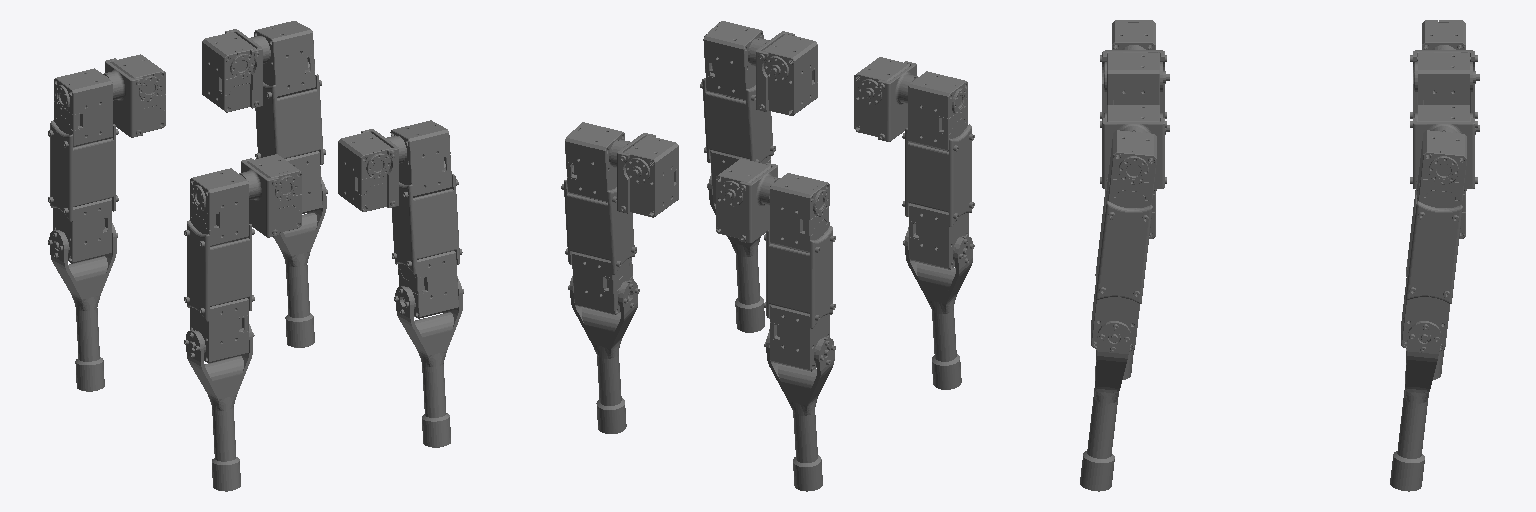
URDF robot description (spot_micro_urdf_v2):
<?xml version="1.0" encoding="utf-8"?>
<!-- This URDF was automatically created by SolidWorks to URDF Exporter! Originally created by [author] ([email redacted]) 
     Commit Version:   Build Version: 1.5.7381.17410
     For more information, please see http://wiki.ros.org/sw_urdf_exporter -->
<robot
  name="spot_micro_urdf_v2">
  <link
    name="base_link">
    <inertial>
      <origin
        xyz="-0.0004418 -0.00072045 0.016622"
        rpy="0 0 0" />
      <mass
        value="0.9248" />
      <inertia
        ixx="0.00063265"
        ixy="6.5439E-06"
        ixz="-5.2376E-06"
        iyy="0.0011738"
        iyz="-7.2183E-06"
        izz="0.00099241" />
    </inertial>
    <visual>
      <origin
        xyz="0 0 0"
        rpy="0 0 0" />
      <geometry>
        <mesh
          filename="package://spot_micro_urdf_v2/meshes/base_link.STL" />
      </geometry>
      <material
        name="">
        <color
          rgba="0.34118 0.80392 1 1" />
      </material>
    </visual>
    <collision>
      <origin
        xyz="0 0 0"
        rpy="0 0 0" />
      <geometry>
        <mesh
          filename="package://spot_micro_urdf_v2/meshes/base_link.STL" />
      </geometry>
    </collision>
  </link>
  <link
    name="front_left_shoulder_link">
    <inertial>
      <origin
        xyz="-0.023049 -0.011251 0.0030217"
        rpy="0 0 0" />
      <mass
        value="0.10229" />
      <inertia
        ixx="2.3388E-05"
        ixy="-3.7973E-08"
        ixz="-4.5621E-13"
        iyy="1.6266E-05"
        iyz="-3.6502E-07"
        izz="2.8445E-05" />
    </inertial>
    <visual>
      <origin
        xyz="0 0 0"
        rpy="0 0 0" />
      <geometry>
        <mesh
          filename="package://spot_micro_urdf_v2/meshes/front_left_shoulder_link.STL" />
      </geometry>
      <material
        name="">
        <color
          rgba="0.50196 0.50196 0.50196 1" />
      </material>
    </visual>
    <collision>
      <origin
        xyz="0 0 0"
        rpy="0 0 0" />
      <geometry>
        <mesh
          filename="package://spot_micro_urdf_v2/meshes/front_left_shoulder_link.STL" />
      </geometry>
    </collision>
  </link>
  <joint
    name="front_left_shoulder_joint"
    type="revolute">
    <origin
      xyz="0.039001 -0.0766 0.010875"
      rpy="1.5708 0 1.5708" />
    <parent
      link="base_link" />
    <child
      link="front_left_shoulder_link" />
    <axis
      xyz="1 0 0" />
    <limit
      lower="0"
      upper="3.14"
      effort="3"
      velocity="8" />
  </joint>
  <link
    name="front_left_thigh_link">
    <inertial>
      <origin
        xyz="-0.0061957 -0.058673 0.023449"
        rpy="0 0 0" />
      <mass
        value="0.20833" />
      <inertia
        ixx="6.5328E-05"
        ixy="-2.5965E-06"
        ixz="7.6159E-09"
        iyy="4.1013E-05"
        iyz="7.2121E-08"
        izz="5.5965E-05" />
    </inertial>
    <visual>
      <origin
        xyz="0 0 0"
        rpy="0 0 0" />
      <geometry>
        <mesh
          filename="package://spot_micro_urdf_v2/meshes/front_left_thigh_link.STL" />
      </geometry>
      <material
        name="">
        <color
          rgba="0.50196 0.50196 0.50196 1" />
      </material>
    </visual>
    <collision>
      <origin
        xyz="0 0 0"
        rpy="0 0 0" />
      <geometry>
        <mesh
          filename="package://spot_micro_urdf_v2/meshes/front_left_thigh_link.STL" />
      </geometry>
    </collision>
  </link>
  <joint
    name="front_left_thigh_joint"
    type="revolute">
    <origin
      xyz="-0.0234 0 0.0226"
      rpy="0 0 0" />
    <parent
      link="front_left_shoulder_link" />
    <child
      link="front_left_thigh_link" />
    <axis
      xyz="0 0 1" />
    <limit
      lower="0"
      upper="3.14"
      effort="3"
      velocity="8" />
  </joint>
  <link
    name="front_left_calf_link">
    <inertial>
      <origin
        xyz="-0.0059573 -0.056415 0.023401"
        rpy="0 0 0" />
      <mass
        value="0.039633" />
      <inertia
        ixx="3.7201E-05"
        ixy="-3.5058E-06"
        ixz="-3.4162E-10"
        iyy="4.3723E-06"
        iyz="-3.0852E-09"
        izz="3.5395E-05" />
    </inertial>
    <visual>
      <origin
        xyz="0 0 0"
        rpy="0 0 0" />
      <geometry>
        <mesh
          filename="package://spot_micro_urdf_v2/meshes/front_left_calf_link.STL" />
      </geometry>
      <material
        name="">
        <color
          rgba="0.50196 0.50196 0.50196 1" />
      </material>
    </visual>
    <collision>
      <origin
        xyz="0 0 0"
        rpy="0 0 0" />
      <geometry>
        <mesh
          filename="package://spot_micro_urdf_v2/meshes/front_left_calf_link.STL" />
      </geometry>
    </collision>
  </link>
  <joint
    name="front_left_calf_joint"
    type="revolute">
    <origin
      xyz="-0.012392 -0.11735 0"
      rpy="0 0 0" />
    <parent
      link="front_left_thigh_link" />
    <child
      link="front_left_calf_link" />
    <axis
      xyz="0 0 1" />
    <limit
      lower="0"
      upper="3.14"
      effort="3"
      velocity="8" />
  </joint>
  <link
    name="rear_left_shoulder_link">
    <inertial>
      <origin
        xyz="0.022101 -0.011251 0.0030217"
        rpy="0 0 0" />
      <mass
        value="0.10229" />
      <inertia
        ixx="2.3388E-05"
        ixy="-3.7973E-08"
        ixz="-4.5621E-13"
        iyy="1.6266E-05"
        iyz="-3.6502E-07"
        izz="2.8445E-05" />
    </inertial>
    <visual>
      <origin
        xyz="0 0 0"
        rpy="0 0 0" />
      <geometry>
        <mesh
          filename="package://spot_micro_urdf_v2/meshes/rear_left_shoulder_link.STL" />
      </geometry>
      <material
        name="">
        <color
          rgba="0.50196 0.50196 0.50196 1" />
      </material>
    </visual>
    <collision>
      <origin
        xyz="0 0 0"
        rpy="0 0 0" />
      <geometry>
        <mesh
          filename="package://spot_micro_urdf_v2/meshes/rear_left_shoulder_link.STL" />
      </geometry>
    </collision>
  </link>
  <joint
    name="rear_left_shoulder_joint"
    type="revolute">
    <origin
      xyz="0.039001 0.07825 0.010875"
      rpy="1.5708 0 1.5708" />
    <parent
      link="base_link" />
    <child
      link="rear_left_shoulder_link" />
    <axis
      xyz="1 0 0" />
    <limit
      lower="0"
      upper="3.14"
      effort="3"
      velocity="8" />
  </joint>
  <link
    name="rear_left_thigh_link">
    <inertial>
      <origin
        xyz="-0.0061957 -0.058673 0.023449"
        rpy="0 0 0" />
      <mass
        value="0.20833" />
      <inertia
        ixx="6.5328E-05"
        ixy="-2.5965E-06"
        ixz="7.6159E-09"
        iyy="4.1013E-05"
        iyz="7.2121E-08"
        izz="5.5965E-05" />
    </inertial>
    <visual>
      <origin
        xyz="0 0 0"
        rpy="0 0 0" />
      <geometry>
        <mesh
          filename="package://spot_micro_urdf_v2/meshes/rear_left_thigh_link.STL" />
      </geometry>
      <material
        name="">
        <color
          rgba="0.50196 0.50196 0.50196 1" />
      </material>
    </visual>
    <collision>
      <origin
        xyz="0 0 0"
        rpy="0 0 0" />
      <geometry>
        <mesh
          filename="package://spot_micro_urdf_v2/meshes/rear_left_thigh_link.STL" />
      </geometry>
    </collision>
  </link>
  <joint
    name="rear_left_thigh_joint"
    type="revolute">
    <origin
      xyz="0.02175 0 0.0226"
      rpy="0 0 0" />
    <parent
      link="rear_left_shoulder_link" />
    <child
      link="rear_left_thigh_link" />
    <axis
      xyz="0 0 1" />
    <limit
      lower="0"
      upper="3.14"
      effort="3"
      velocity="8" />
  </joint>
  <link
    name="rear_left_calf_link">
    <inertial>
      <origin
        xyz="-0.0059573 -0.056415 0.023401"
        rpy="0 0 0" />
      <mass
        value="0.039633" />
      <inertia
        ixx="3.7201E-05"
        ixy="-3.5058E-06"
        ixz="-3.4162E-10"
        iyy="4.3723E-06"
        iyz="-3.0852E-09"
        izz="3.5395E-05" />
    </inertial>
    <visual>
      <origin
        xyz="0 0 0"
        rpy="0 0 0" />
      <geometry>
        <mesh
          filename="package://spot_micro_urdf_v2/meshes/rear_left_calf_link.STL" />
      </geometry>
      <material
        name="">
        <color
          rgba="0.50196 0.50196 0.50196 1" />
      </material>
    </visual>
    <collision>
      <origin
        xyz="0 0 0"
        rpy="0 0 0" />
      <geometry>
        <mesh
          filename="package://spot_micro_urdf_v2/meshes/rear_left_calf_link.STL" />
      </geometry>
    </collision>
  </link>
  <joint
    name="rear_left_calf_joint"
    type="revolute">
    <origin
      xyz="-0.012392 -0.11735 0"
      rpy="0 0 0" />
    <parent
      link="rear_left_thigh_link" />
    <child
      link="rear_left_calf_link" />
    <axis
      xyz="0 0 1" />
    <limit
      lower="0"
      upper="3.14"
      effort="3"
      velocity="8" />
  </joint>
  <link
    name="rear_right_shoulder_link">
    <inertial>
      <origin
        xyz="-0.022101 0.011263 -0.0029782"
        rpy="0 0 0" />
      <mass
        value="0.10229" />
      <inertia
        ixx="2.3388E-05"
        ixy="-3.7964E-08"
        ixz="-1.4601E-10"
        iyy="1.6269E-05"
        iyz="-4.12E-07"
        izz="2.8442E-05" />
    </inertial>
    <visual>
      <origin
        xyz="0 0 0"
        rpy="0 0 0" />
      <geometry>
        <mesh
          filename="package://spot_micro_urdf_v2/meshes/rear_right_shoulder_link.STL" />
      </geometry>
      <material
        name="">
        <color
          rgba="0.50196 0.50196 0.50196 1" />
      </material>
    </visual>
    <collision>
      <origin
        xyz="0 0 0"
        rpy="0 0 0" />
      <geometry>
        <mesh
          filename="package://spot_micro_urdf_v2/meshes/rear_right_shoulder_link.STL" />
      </geometry>
    </collision>
  </link>
  <joint
    name="rear_right_shoulder_joint"
    type="revolute">
    <origin
      xyz="-0.03901 0.07825 0.010875"
      rpy="-1.5747 0 -1.5708" />
    <parent
      link="base_link" />
    <child
      link="rear_right_shoulder_link" />
    <axis
      xyz="1 0 0" />
    <limit
      lower="0"
      upper="3.14"
      effort="3"
      velocity="8" />
  </joint>
  <link
    name="rear_right_thigh_link">
    <inertial>
      <origin
        xyz="7.3479E-10 -0.05909 0.023473"
        rpy="0 0 0" />
      <mass
        value="0.20833" />
      <inertia
        ixx="6.5602E-05"
        ixy="2.8634E-13"
        ixz="-2.0237E-14"
        iyy="4.0739E-05"
        iyz="1.3777E-08"
        izz="5.5965E-05" />
    </inertial>
    <visual>
      <origin
        xyz="0 0 0"
        rpy="0 0 0" />
      <geometry>
        <mesh
          filename="package://spot_micro_urdf_v2/meshes/rear_right_thigh_link.STL" />
      </geometry>
      <material
        name="">
        <color
          rgba="0.50196 0.50196 0.50196 1" />
      </material>
    </visual>
    <collision>
      <origin
        xyz="0 0 0"
        rpy="0 0 0" />
      <geometry>
        <mesh
          filename="package://spot_micro_urdf_v2/meshes/rear_right_thigh_link.STL" />
      </geometry>
    </collision>
  </link>
  <joint
    name="rear_right_thigh_joint"
    type="revolute">
    <origin
      xyz="-0.02175 8.6996E-05 -0.022548"
      rpy="-3.1416 0 0" />
    <parent
      link="rear_right_shoulder_link" />
    <child
      link="rear_right_thigh_link" />
    <axis
      xyz="0 0 -1" />
    <limit
      lower="0"
      upper="3.14"
      effort="3"
      velocity="8" />
  </joint>
  <link
    name="rear_right_calf_link">
    <inertial>
      <origin
        xyz="-0.0059573 -0.056415 -0.02395"
        rpy="0 0 0" />
      <mass
        value="0.039633" />
      <inertia
        ixx="3.7201E-05"
        ixy="-3.5058E-06"
        ixz="-3.4162E-10"
        iyy="4.3723E-06"
        iyz="-3.0852E-09"
        izz="3.5395E-05" />
    </inertial>
    <visual>
      <origin
        xyz="0 0 0"
        rpy="0 0 0" />
      <geometry>
        <mesh
          filename="package://spot_micro_urdf_v2/meshes/rear_right_calf_link.STL" />
      </geometry>
      <material
        name="">
        <color
          rgba="0.50196 0.50196 0.50196 1" />
      </material>
    </visual>
    <collision>
      <origin
        xyz="0 0 0"
        rpy="0 0 0" />
      <geometry>
        <mesh
          filename="package://spot_micro_urdf_v2/meshes/rear_right_calf_link.STL" />
      </geometry>
    </collision>
  </link>
  <joint
    name="rear_right_calf_joint"
    type="revolute">
    <origin
      xyz="0 -0.118 -0.00045526"
      rpy="3.14 0 3.14" />
    <parent
      link="rear_right_thigh_link" />
    <child
      link="rear_right_calf_link" />
    <axis
      xyz="0 0 1" />
    <limit
      lower="0"
      upper="3.14"
      effort="3"
      velocity="8" />
  </joint>
  <link
    name="front_right_shoulder_link">
    <inertial>
      <origin
        xyz="0.022101 0.011263 -0.0029782"
        rpy="0 0 0" />
      <mass
        value="0.10229" />
      <inertia
        ixx="2.3388E-05"
        ixy="-3.7964E-08"
        ixz="-1.4601E-10"
        iyy="1.6269E-05"
        iyz="-4.12E-07"
        izz="2.8442E-05" />
    </inertial>
    <visual>
      <origin
        xyz="0 0 0"
        rpy="0 0 0" />
      <geometry>
        <mesh
          filename="package://spot_micro_urdf_v2/meshes/front_right_shoulder_link.STL" />
      </geometry>
      <material
        name="">
        <color
          rgba="0.50196 0.50196 0.50196 1" />
      </material>
    </visual>
    <collision>
      <origin
        xyz="0 0 0"
        rpy="0 0 0" />
      <geometry>
        <mesh
          filename="package://spot_micro_urdf_v2/meshes/front_right_shoulder_link.STL" />
      </geometry>
    </collision>
  </link>
  <joint
    name="front_right_shoulder_joint"
    type="revolute">
    <origin
      xyz="-0.039021 -0.0766 0.010875"
      rpy="-1.5747 0 -1.5708" />
    <parent
      link="base_link" />
    <child
      link="front_right_shoulder_link" />
    <axis
      xyz="1 0 0" />
    <limit
      lower="0"
      upper="3.14"
      effort="3"
      velocity="8" />
  </joint>
  <link
    name="front_right_thigh_link">
    <inertial>
      <origin
        xyz="7.3479E-10 -0.05909 0.023473"
        rpy="0 0 0" />
      <mass
        value="0.20833" />
      <inertia
        ixx="6.5602E-05"
        ixy="2.8634E-13"
        ixz="-2.0237E-14"
        iyy="4.0739E-05"
        iyz="1.3777E-08"
        izz="5.5965E-05" />
    </inertial>
    <visual>
      <origin
        xyz="0 0 0"
        rpy="0 0 0" />
      <geometry>
        <mesh
          filename="package://spot_micro_urdf_v2/meshes/front_right_thigh_link.STL" />
      </geometry>
      <material
        name="">
        <color
          rgba="0.50196 0.50196 0.50196 1" />
      </material>
    </visual>
    <collision>
      <origin
        xyz="0 0 0"
        rpy="0 0 0" />
      <geometry>
        <mesh
          filename="package://spot_micro_urdf_v2/meshes/front_right_thigh_link.STL" />
      </geometry>
    </collision>
  </link>
  <joint
    name="front_right_thigh_joint"
    type="revolute">
    <origin
      xyz="0.0234 8.6996E-05 -0.022548"
      rpy="-3.1416 0 0" />
    <parent
      link="front_right_shoulder_link" />
    <child
      link="front_right_thigh_link" />
    <axis
      xyz="0 0.0038582 -0.99999" />
    <limit
      lower="0"
      upper="3.14"
      effort="3"
      velocity="8" />
  </joint>
  <link
    name="front_right_calf_link">
    <inertial>
      <origin
        xyz="-0.0059573 -0.056415 -0.02395"
        rpy="0 0 0" />
      <mass
        value="0.039633" />
      <inertia
        ixx="3.7201E-05"
        ixy="-3.5058E-06"
        ixz="-3.4162E-10"
        iyy="4.3723E-06"
        iyz="-3.0852E-09"
        izz="3.5395E-05" />
    </inertial>
    <visual>
      <origin
        xyz="0 0 0"
        rpy="0 0 0" />
      <geometry>
        <mesh
          filename="package://spot_micro_urdf_v2/meshes/front_right_calf_link.STL" />
      </geometry>
      <material
        name="">
        <color
          rgba="0.50196 0.50196 0.50196 1" />
      </material>
    </visual>
    <collision>
      <origin
        xyz="0 0 0"
        rpy="0 0 0" />
      <geometry>
        <mesh
          filename="package://spot_micro_urdf_v2/meshes/front_right_calf_link.STL" />
      </geometry>
    </collision>
  </link>
  <joint
    name="front_right_calf_joint"
    type="revolute">
    <origin
      xyz="0 -0.118 -0.00045526"
      rpy="3.14 0 3.14" />
    <parent
      link="front_right_thigh_link" />
    <child
      link="front_right_calf_link" />
    <axis
      xyz="0 0 1" />
    <limit
      lower="0"
      upper="3.14"
      effort="3"
      velocity="8" />
  </joint>
</robot>

--- Facts derived from the render (not from the file) ---
The picture shows the robot from 3 angles, left to right: view 1: azimuth 30°, elevation 25°; view 2: azimuth 150°, elevation 25°; view 3: azimuth 270°, elevation 25°; orthographic projection.
Robot: spot_micro_urdf_v2 — 13 links, 12 joints (12 revolute); root link base_link; default pose: all joints at 0.
Links seen in each view (by area): view 1: rear_right_thigh_link, front_right_thigh_link, front_left_thigh_link, rear_left_thigh_link, front_left_calf_link, rear_right_calf_link, front_right_calf_link, front_left_shoulder_link, rear_left_shoulder_link, rear_right_shoulder_link, front_right_shoulder_link, rear_left_calf_link; view 2: front_right_thigh_link, rear_right_thigh_link, rear_left_thigh_link, front_left_thigh_link, front_left_shoulder_link, rear_left_shoulder_link, front_right_calf_link, rear_right_calf_link, rear_left_calf_link, front_right_shoulder_link, rear_right_shoulder_link, front_left_calf_link; view 3: front_left_thigh_link, rear_left_thigh_link, rear_left_calf_link, front_left_calf_link, front_right_shoulder_link, rear_right_shoulder_link, front_left_shoulder_link, rear_left_shoulder_link, front_right_thigh_link, rear_right_thigh_link.
Boxes of the visible links, x1,y1,x2,y2 form: rear_right_thigh_link: [48, 68, 118, 263]; front_right_thigh_link: [184, 168, 254, 362]; front_left_thigh_link: [390, 120, 462, 318]; rear_left_thigh_link: [254, 21, 325, 213]; front_left_calf_link: [394, 276, 463, 447]; rear_right_calf_link: [48, 223, 117, 391]; front_right_calf_link: [184, 324, 254, 491]; front_left_shoulder_link: [338, 129, 404, 211]; rear_left_shoulder_link: [202, 29, 268, 112]; rear_right_shoulder_link: [103, 54, 165, 137]; front_right_shoulder_link: [239, 154, 301, 237]; rear_left_calf_link: [273, 177, 327, 347]; front_right_thigh_link: [902, 71, 974, 269]; rear_right_thigh_link: [764, 173, 835, 371]; rear_left_thigh_link: [561, 122, 636, 314]; front_left_thigh_link: [700, 21, 775, 203]; front_left_shoulder_link: [750, 31, 817, 115]; rear_left_shoulder_link: [611, 133, 678, 217]; front_right_calf_link: [903, 227, 974, 389]; rear_right_calf_link: [764, 329, 835, 491]; rear_left_calf_link: [568, 276, 639, 433]; front_right_shoulder_link: [854, 57, 917, 141]; rear_right_shoulder_link: [716, 158, 779, 242]; front_left_calf_link: [707, 173, 764, 332]; front_left_thigh_link: [1091, 130, 1156, 351]; rear_left_thigh_link: [1401, 130, 1466, 351]; rear_left_calf_link: [1390, 321, 1441, 491]; front_left_calf_link: [1080, 321, 1130, 491]; front_right_shoulder_link: [1100, 45, 1169, 118]; rear_right_shoulder_link: [1410, 45, 1479, 118]; front_left_shoulder_link: [1100, 105, 1169, 188]; rear_left_shoulder_link: [1410, 105, 1479, 188]; front_right_thigh_link: [1112, 20, 1156, 238]; rear_right_thigh_link: [1422, 20, 1466, 238].
Bounding box of the posed robot: 0.2191 × 0.2582 × 0.2479 m (x, y, z).
Meshes: 13 distinct files referenced, 12 mesh visuals loaded (12 binary STL); not drawn: 1 (reference not matched to a file when rendering).